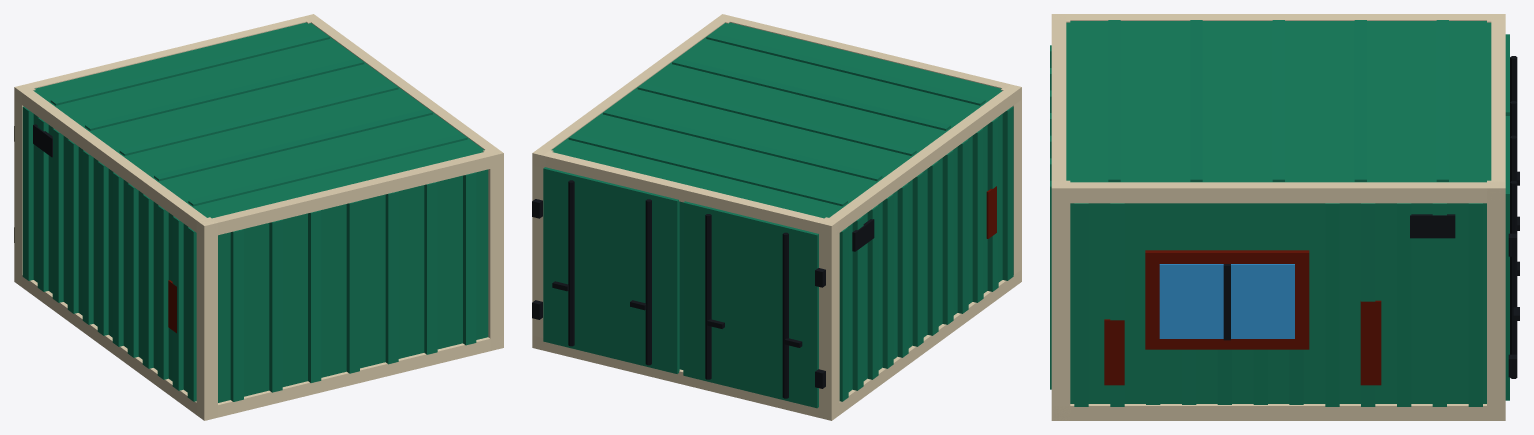
The model's file is tb_upg_container_cabin.glb.
3 views of the same model, side by side, from view 1: azimuth 30°, elevation 25°; view 2: azimuth 150°, elevation 25°; view 3: azimuth 270°, elevation 25° (orthographic). The views are drawn at different scales.
Parts seen in each view (by area): view 1: tb_upg_container_cabin_mesh; view 2: tb_upg_container_cabin_mesh; view 3: tb_upg_container_cabin_mesh.
Boxes of the visible parts, x1,y1,x2,y2 form: tb_upg_container_cabin_mesh: (14, 14, 503, 420); tb_upg_container_cabin_mesh: (532, 14, 1021, 420); tb_upg_container_cabin_mesh: (1050, 14, 1519, 420).
Bounding box in the file's own units: 2.06 × 1.26 × 2.29.
